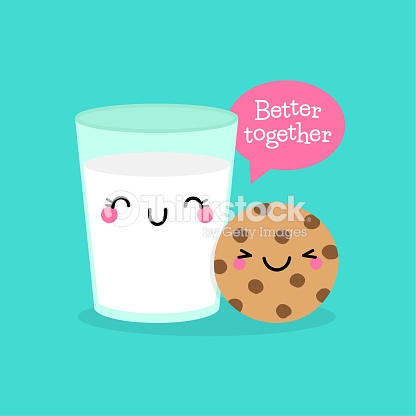glass of milk: (109, 121, 228, 194)
